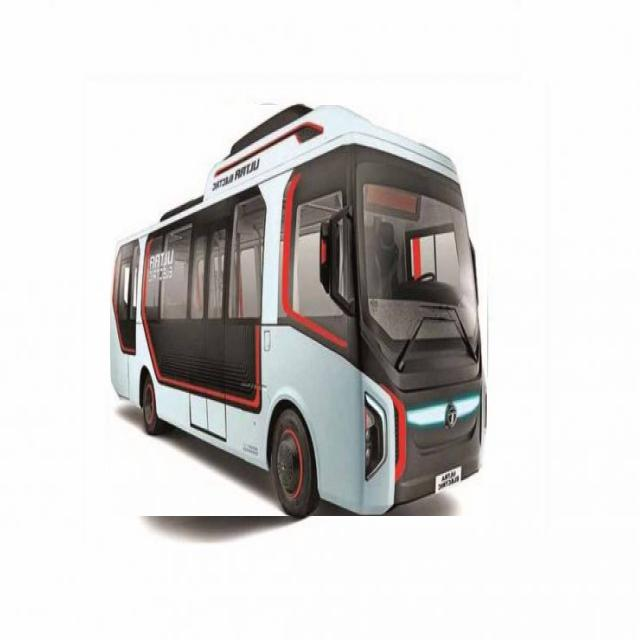bus: (111, 106, 487, 516)
